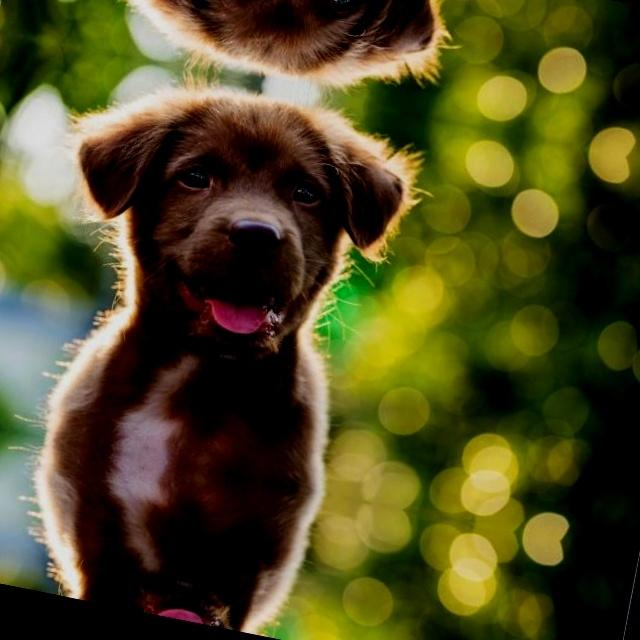dog: (28, 57, 432, 381), (80, 0, 462, 109), (0, 551, 339, 640)
